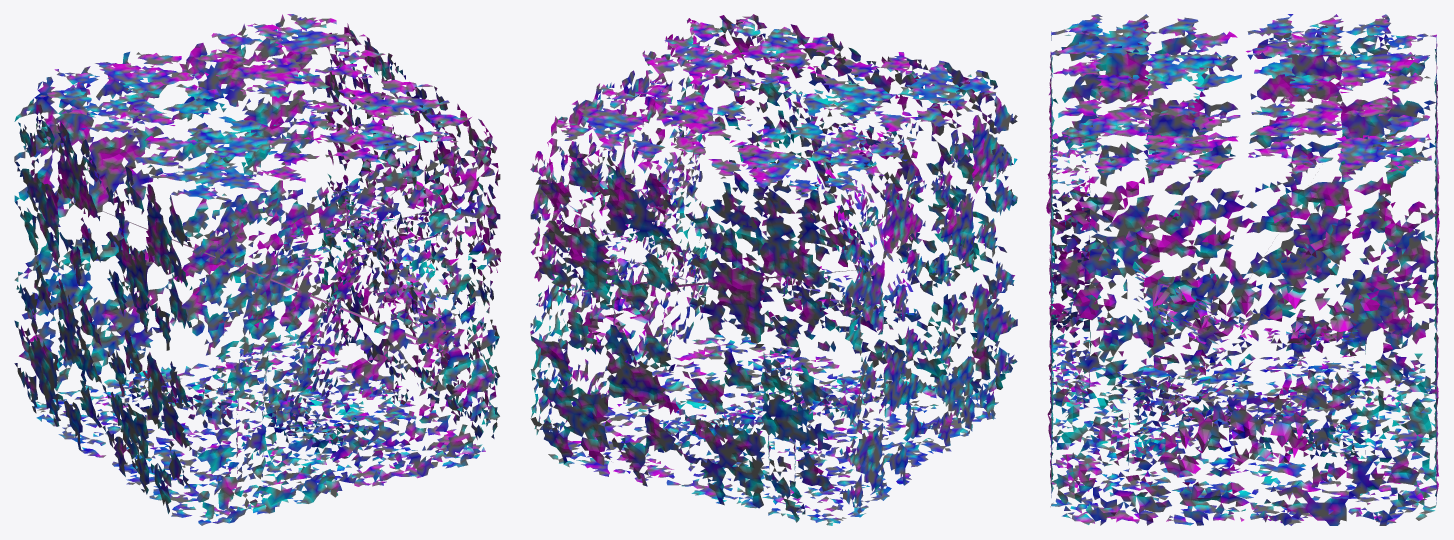
3 renders of one model, left to right at view 1: azimuth 30°, elevation 25°; view 2: azimuth 150°, elevation 25°; view 3: azimuth 270°, elevation 25°, orthographic. The views are drawn at different scales.
Bounding box in the file's own units: 1.19 × 1.14 × 1.14.
